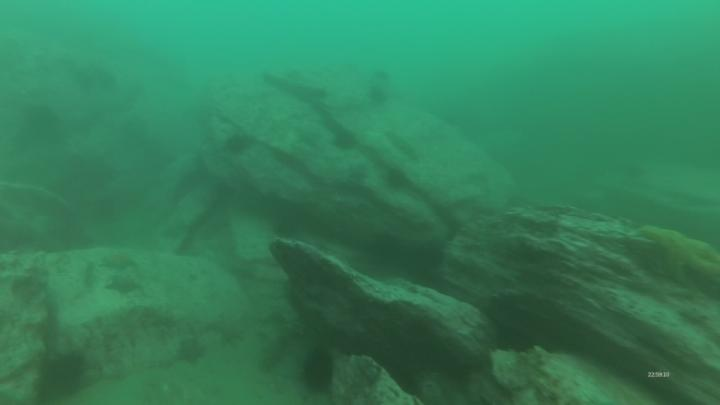echinus: (303, 350, 334, 393), (333, 128, 356, 150), (388, 168, 409, 192), (227, 133, 251, 154)
holothurian: (388, 128, 420, 161)
starfish: (217, 321, 245, 345), (177, 339, 204, 362), (104, 252, 132, 271), (106, 280, 137, 294)
